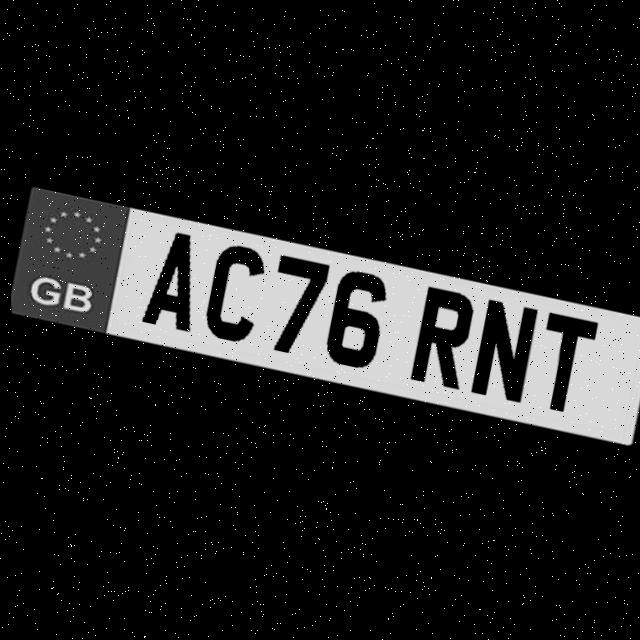license-plates: (11, 186, 640, 443)
